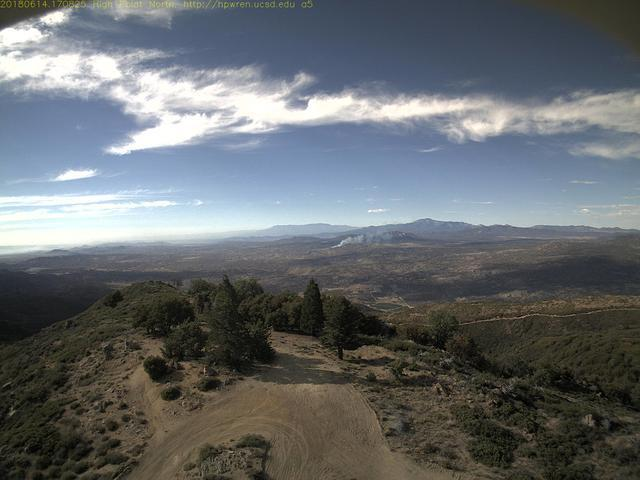Smoke: (325, 223, 408, 250)
